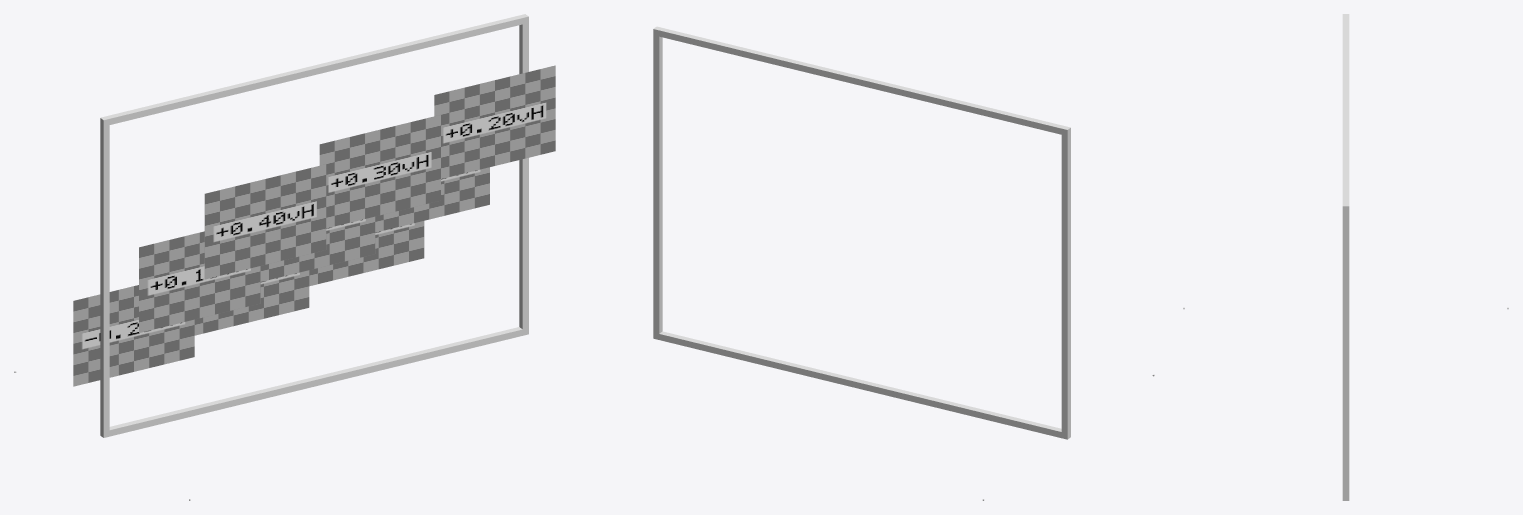
Rendered from depth_ladder.glb.
The picture shows the model from 3 angles, left to right: view 1: azimuth 30°, elevation 25°; view 2: azimuth 150°, elevation 25°; view 3: azimuth 270°, elevation 25°; orthographic projection. The views are drawn at different scales.
Visible parts, largest first — view 1: zdp_frame, tile_+0.40vH, tile_+0.20vH, tile_+0.30vH, tile_+0.10vH, tile_-0.20vH, tile_0.00vH, tile_-0.40vH, tile_-0.30vH, tile_-0.10vH; view 2: zdp_frame; view 3: zdp_frame.
Boxes of the visible parts, left/top/right/bottom form: zdp_frame: left=100, top=14, right=528, bottom=437; tile_+0.40vH: left=204, top=164, right=326, bottom=279; tile_+0.20vH: left=434, top=65, right=555, bottom=178; tile_+0.30vH: left=319, top=115, right=440, bottom=228; tile_+0.10vH: left=139, top=231, right=260, bottom=332; tile_-0.20vH: left=73, top=285, right=194, bottom=386; tile_0.00vH: left=260, top=216, right=375, bottom=281; tile_-0.40vH: left=309, top=221, right=424, bottom=286; tile_-0.30vH: left=194, top=270, right=309, bottom=335; tile_-0.10vH: left=375, top=167, right=489, bottom=232; zdp_frame: left=653, top=26, right=1070, bottom=439; zdp_frame: left=1342, top=14, right=1349, bottom=500.
Size of the model in its own units: 1.4 by 1 by 1.
Materials: 11 (9 with a texture image).
